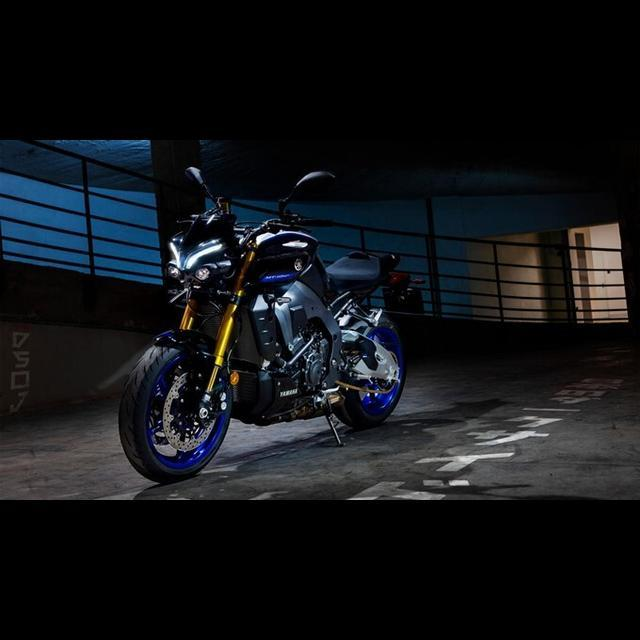motorcycle: (113, 157, 414, 489)
